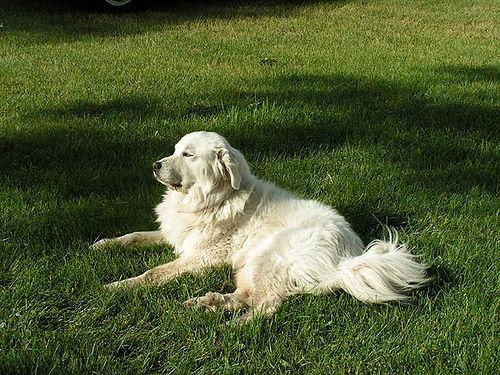Great_Pyrenees: (89, 131, 431, 322)
